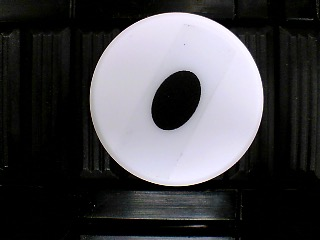BOHOEL: (90, 12, 264, 187)
